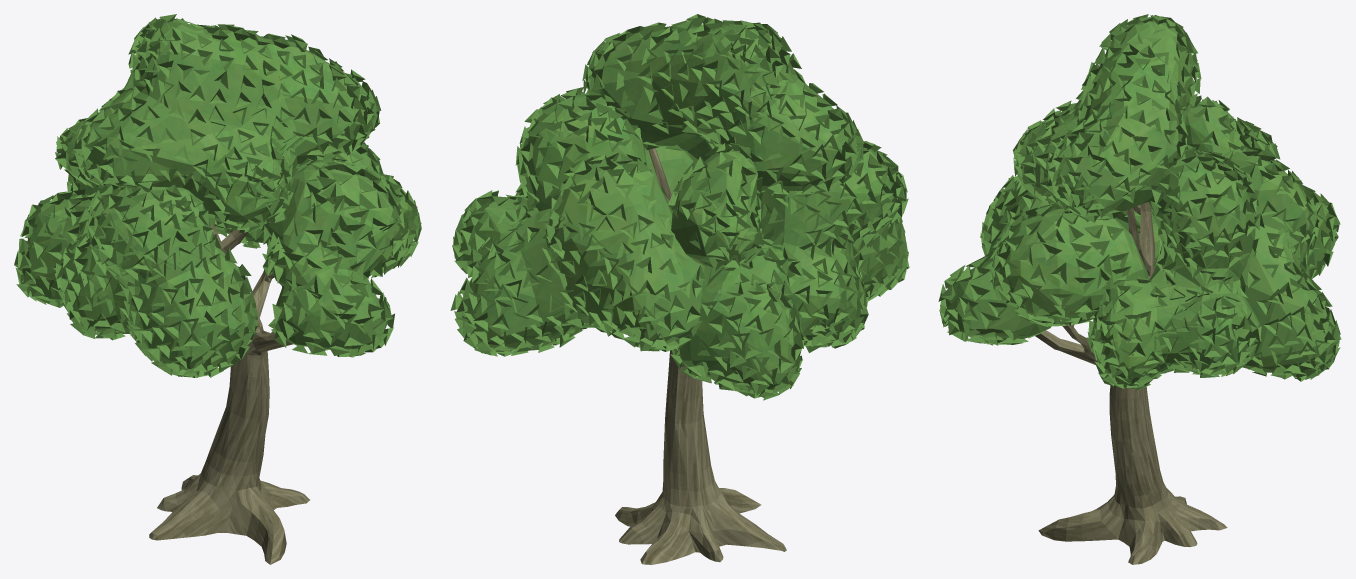
The model's file is SM_ENV_TCHEXA_Tree_A.fbx.
3 renders of one model, left to right at view 1: azimuth 30°, elevation 25°; view 2: azimuth 150°, elevation 25°; view 3: azimuth 270°, elevation 25°, orthographic. The views are drawn at different scales.
Visible parts, largest first — view 1: SM_ENV_TCHEXA_Tree_A.mo; view 2: SM_ENV_TCHEXA_Tree_A.mo; view 3: SM_ENV_TCHEXA_Tree_A.mo.
Part boxes in pixels (x1,y1,x2,y2): SM_ENV_TCHEXA_Tree_A.mo: (14,14,421,564); SM_ENV_TCHEXA_Tree_A.mo: (450,14,909,564); SM_ENV_TCHEXA_Tree_A.mo: (938,14,1341,564).
Bounding box in the file's own units: 1005 × 1393 × 1027.
